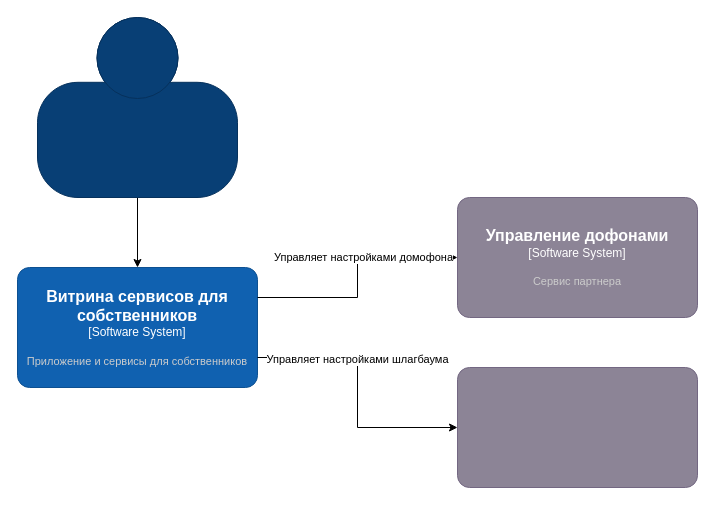
Image size: 715x505. Some labels were removed from this diagram. The shapes that lost their labels are listed below. From the top down, each one's centre as x and y in pixels, then its label:
At point (137, 107): "Собственник [Person] Клиент".
At point (577, 427): "Управление шлагбаумами [Software System] Сервис партнера".
